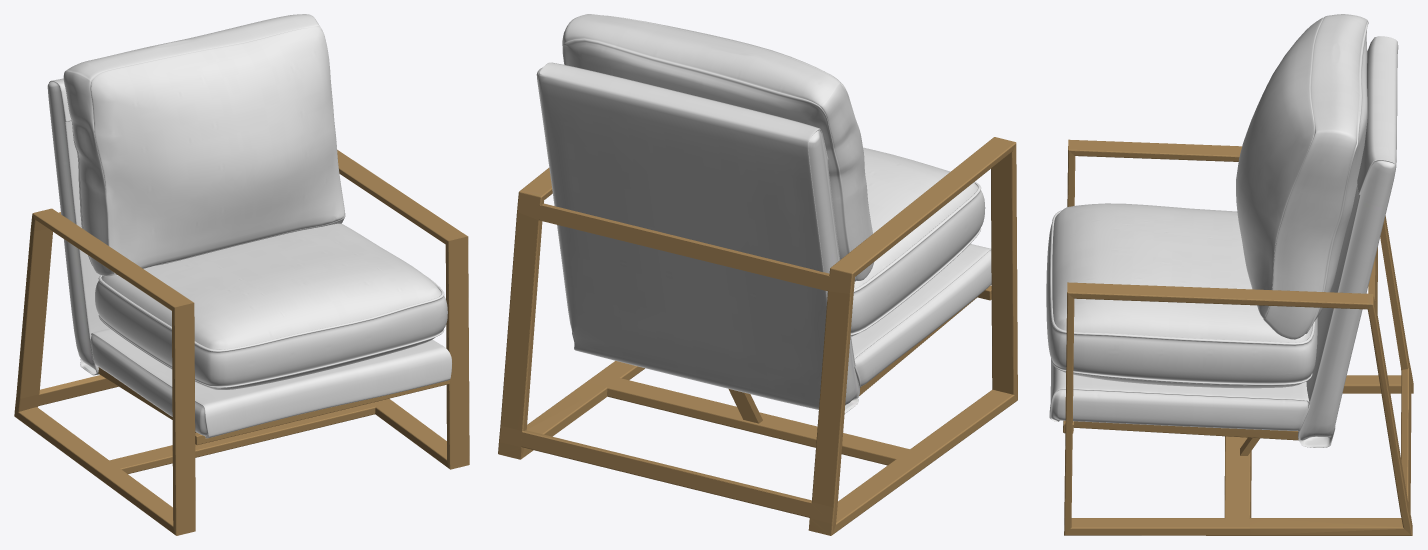
The model's file is abo-B0746KJVP2.glb.
3 views of the same model, side by side, from view 1: azimuth 30°, elevation 25°; view 2: azimuth 150°, elevation 25°; view 3: azimuth 270°, elevation 25° (orthographic). The views are drawn at different scales.
Bounding box in the file's own units: 0.805 × 0.966 × 0.813.
1 material, 1 textured.
